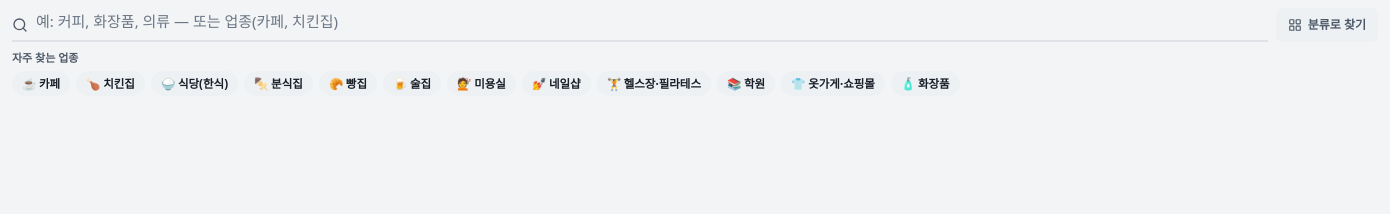
GoodsPicker › offers frequent businesses when empty and opens the set when a chip is clicked
The image size is (1390, 214).
Click the button "🍗 치킨집" at x=111, y=83, box [76,70,145,96]
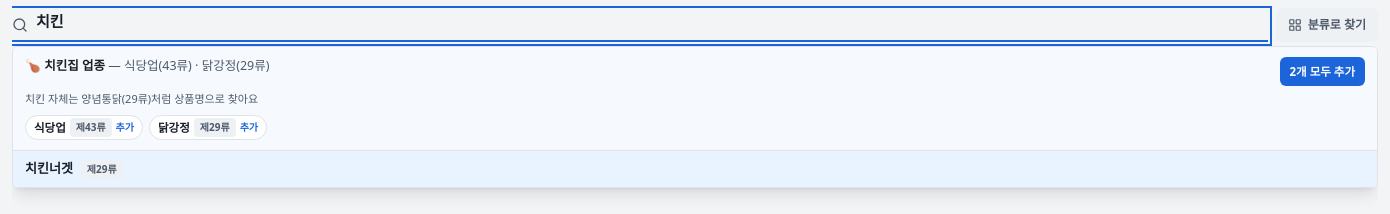
Expected: the dropdown named "지정상품 검색" holds "치킨", [12,10,1268,42]
Expected: the text "자주 찾는 업종" is gone
Expected: the element named "치킨집 업종 세트" shows "식당업(43류) · 닭강정(29류)", [124,57,270,74]
